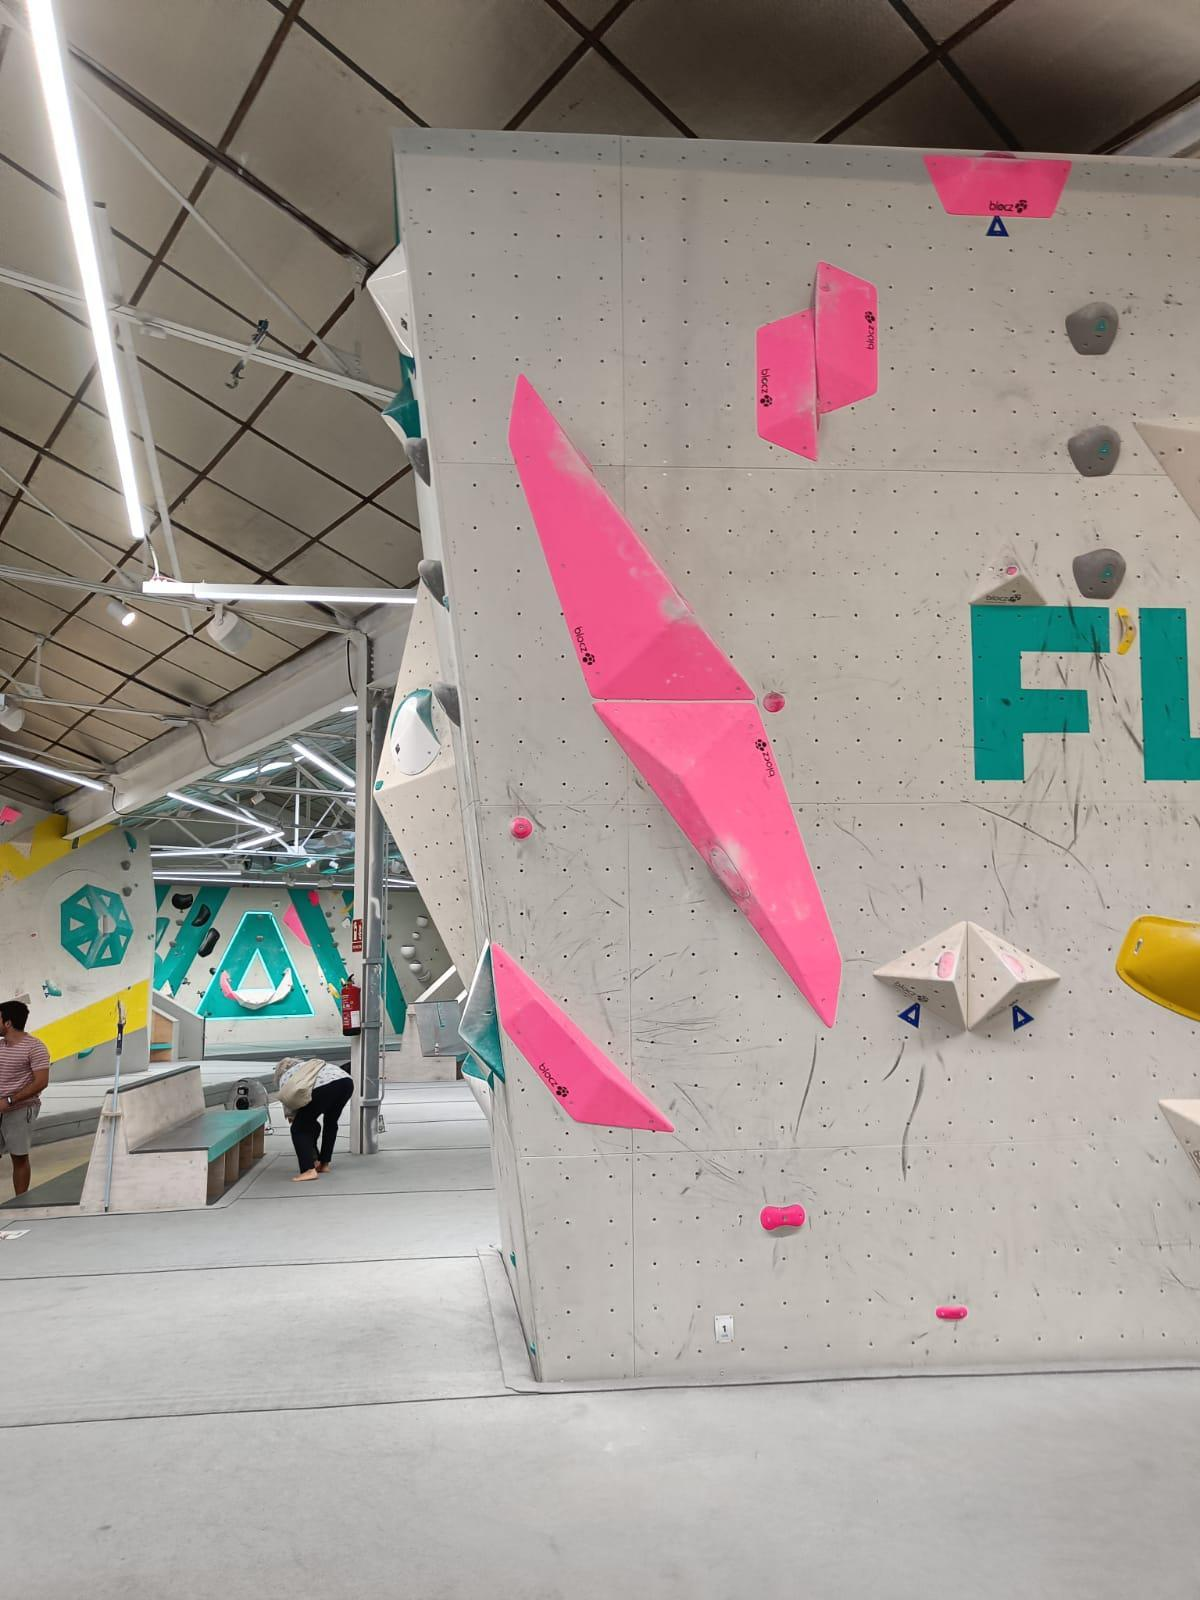hold: (592, 702, 842, 1028), (508, 374, 755, 700), (492, 942, 674, 1133), (921, 154, 1071, 218), (755, 307, 817, 461), (816, 261, 877, 414), (1114, 913, 1200, 1023), (458, 937, 505, 1091), (364, 241, 413, 375), (389, 689, 441, 775), (381, 377, 421, 450), (1065, 300, 1118, 355), (1068, 425, 1121, 476), (1073, 548, 1126, 598), (460, 1052, 493, 1126), (708, 845, 750, 898), (402, 437, 430, 488), (416, 559, 445, 607), (432, 680, 461, 728), (760, 1203, 805, 1231), (1116, 606, 1137, 655), (673, 583, 696, 615), (1002, 952, 1026, 979), (937, 951, 955, 979), (509, 816, 532, 839), (935, 1305, 968, 1320), (763, 692, 785, 712), (576, 447, 594, 472), (981, 151, 1016, 159), (816, 398, 822, 432), (442, 595, 450, 612), (374, 779, 384, 791), (509, 1251, 516, 1269), (529, 1343, 537, 1356), (1007, 566, 1017, 574)
volume: (373, 578, 478, 994), (872, 920, 968, 1033), (967, 921, 1063, 1032), (1132, 416, 1200, 520), (968, 539, 1049, 605), (1157, 1099, 1200, 1179)
